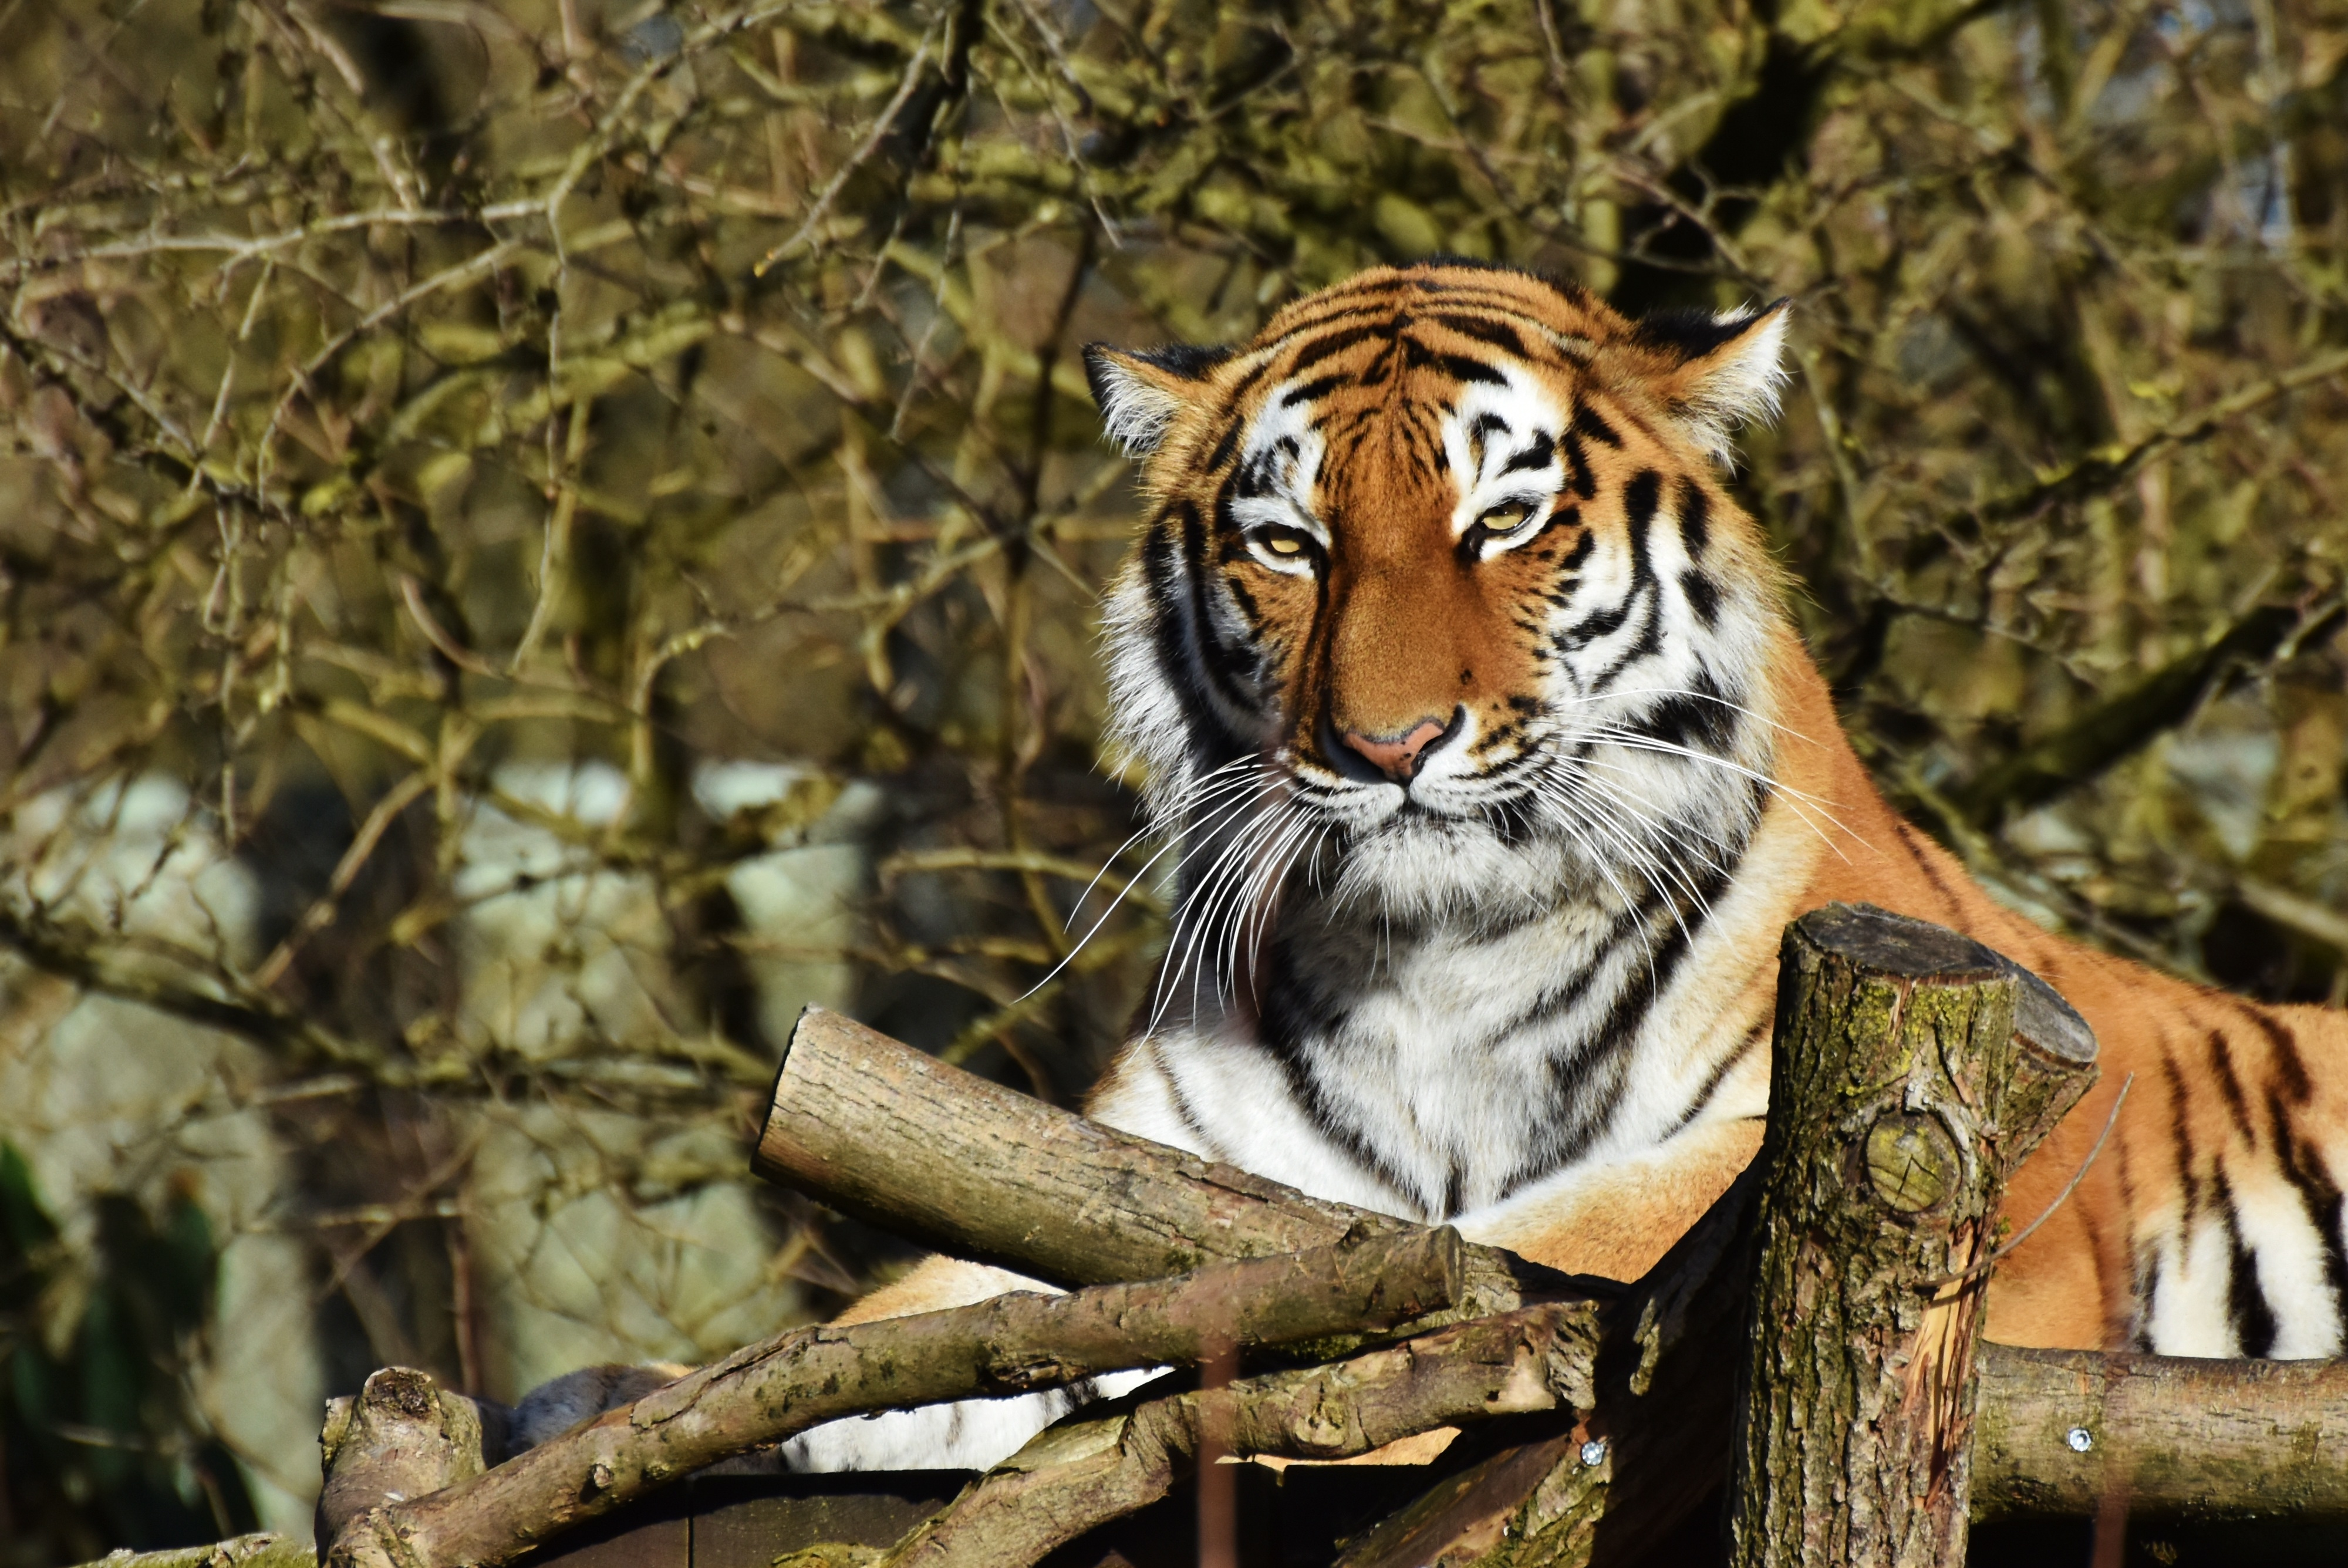tiger: (1032, 250, 2276, 1382)
